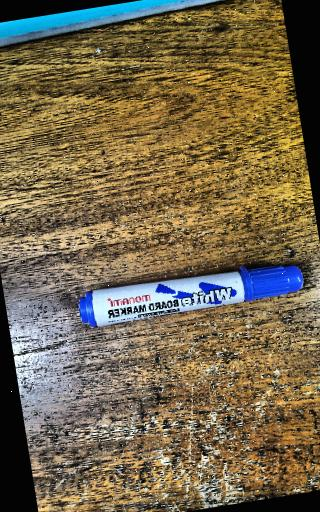marcador azul: (79, 265, 303, 326)
